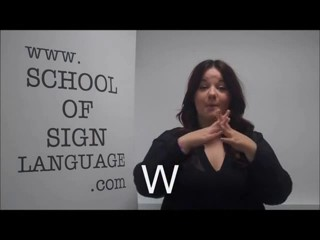W: (189, 104, 249, 152)
